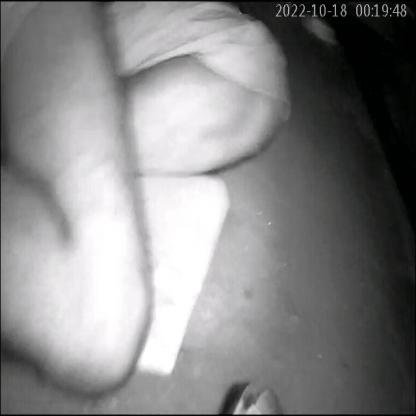leg: (113, 45, 286, 183)
